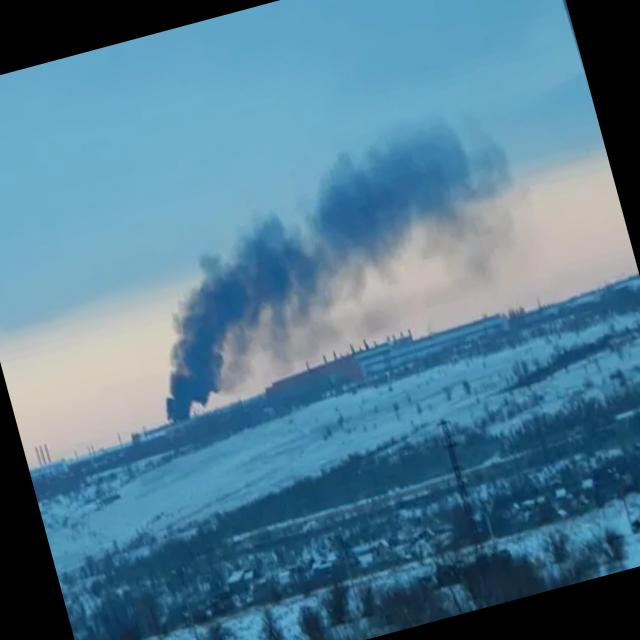Smoke: (111, 110, 535, 422)
